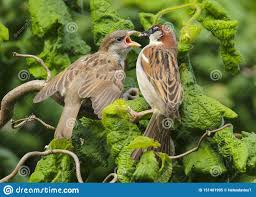hsparrow: (27, 29, 141, 137), (133, 21, 186, 171)
